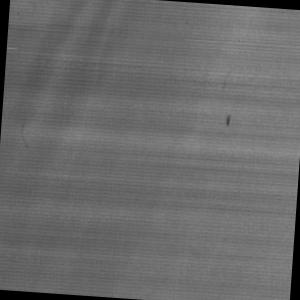Stain: (222, 113, 237, 133)
Wrinkle: (1, 1, 153, 300)
